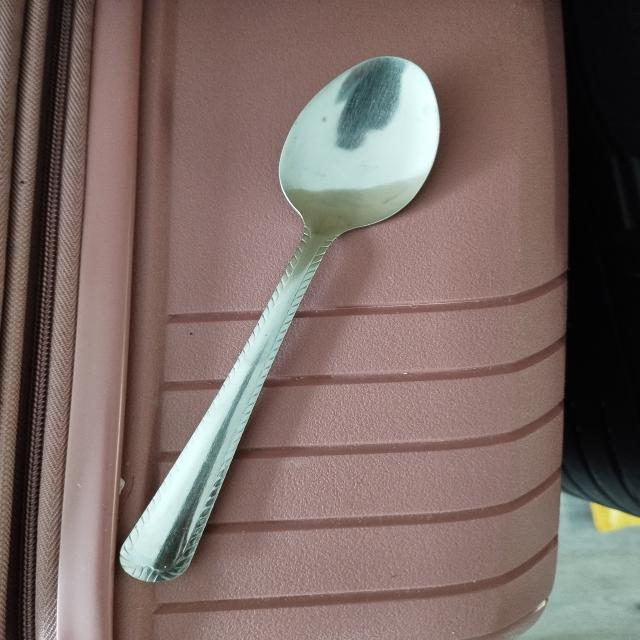Spoon: (81, 47, 465, 593)
